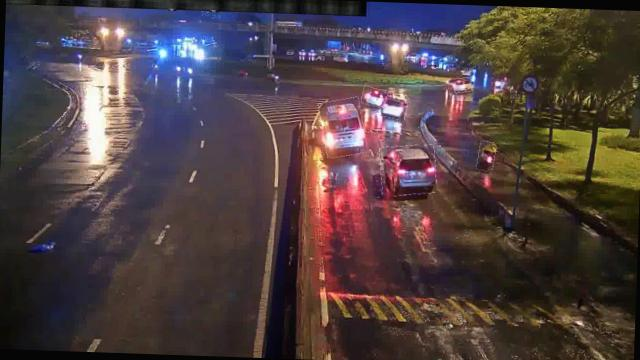Bike: (478, 140, 497, 172)
Bus: (319, 98, 366, 158)
Car: (380, 144, 438, 196), (380, 94, 408, 120), (361, 87, 387, 107), (448, 77, 472, 93)
